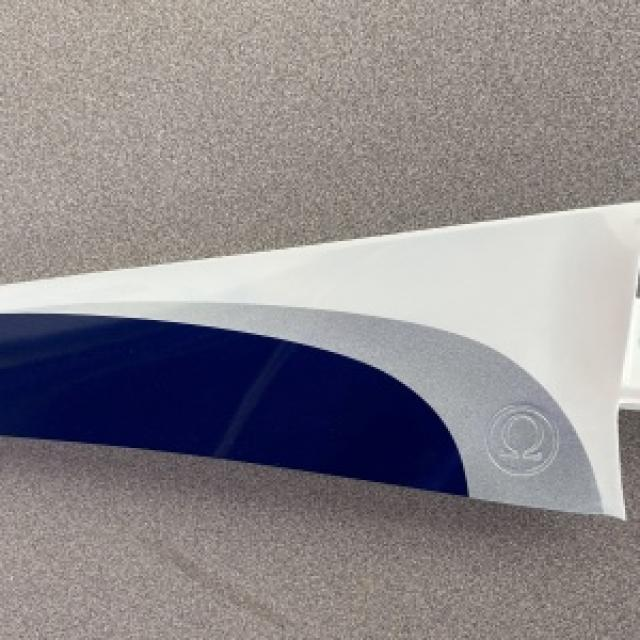healthy: (0, 203, 638, 516)
